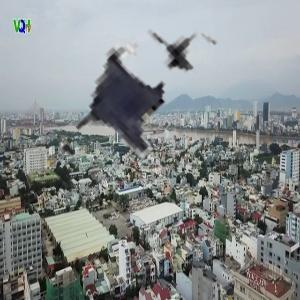drone: (18, 6, 255, 243)
